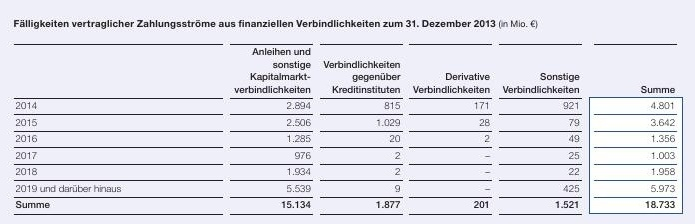table: (0, 0, 695, 224)
